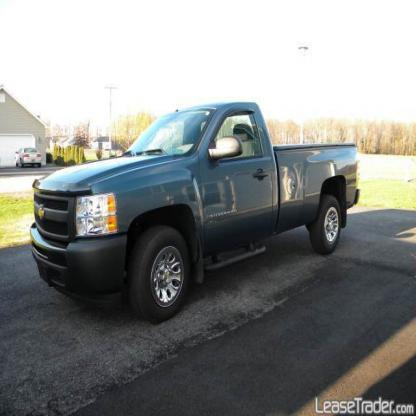Vehicle: (29, 99, 362, 323)
